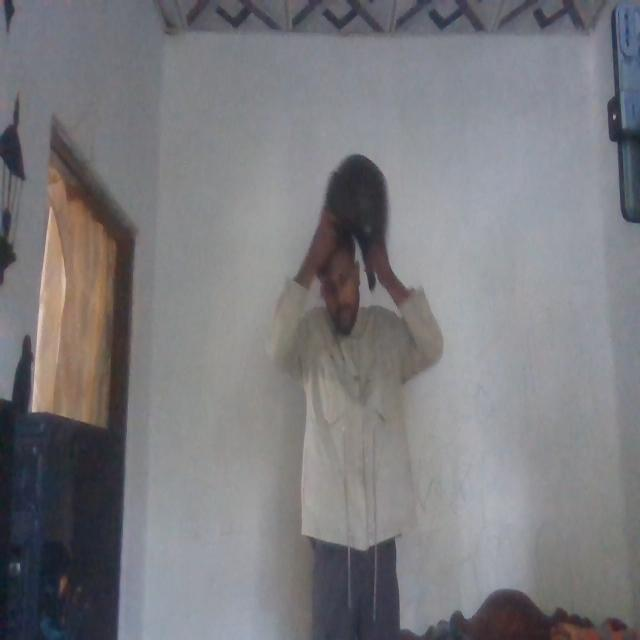Jacket_Wearer: (270, 281, 449, 548)
Person: (270, 193, 441, 640)
